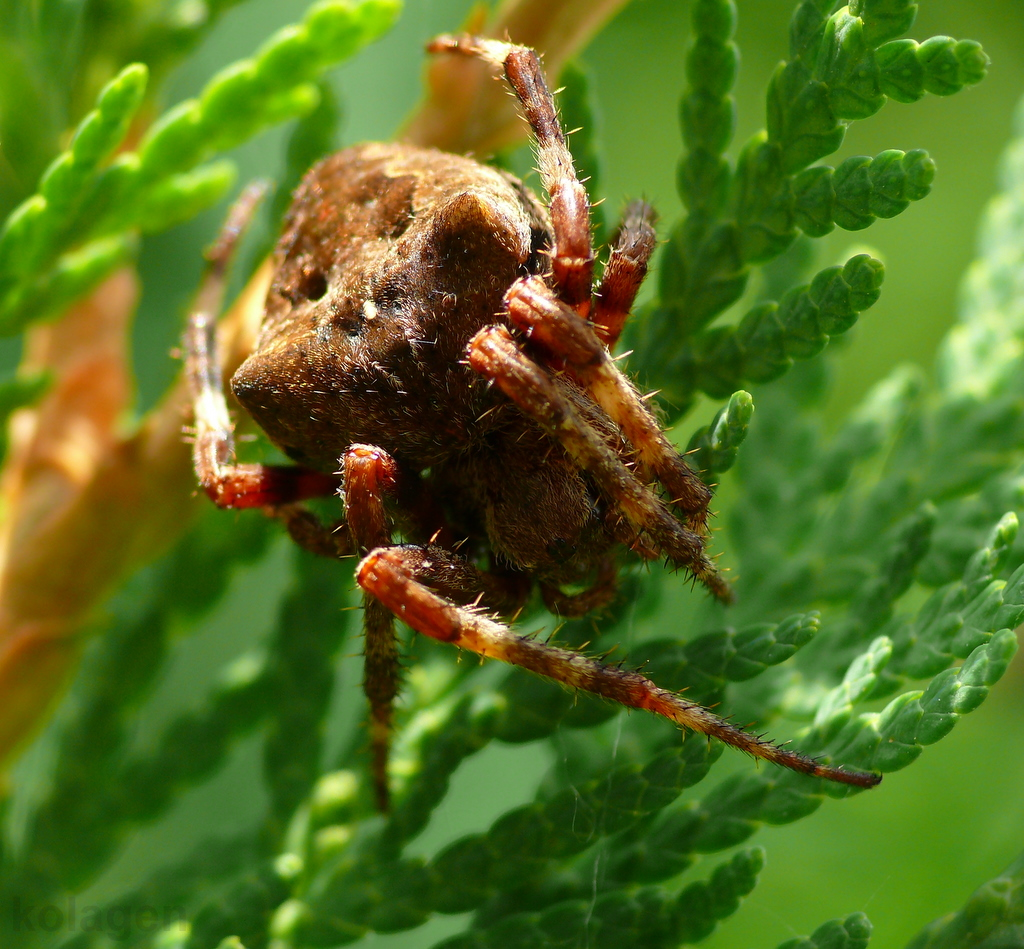spider: (82, 3, 917, 829)
